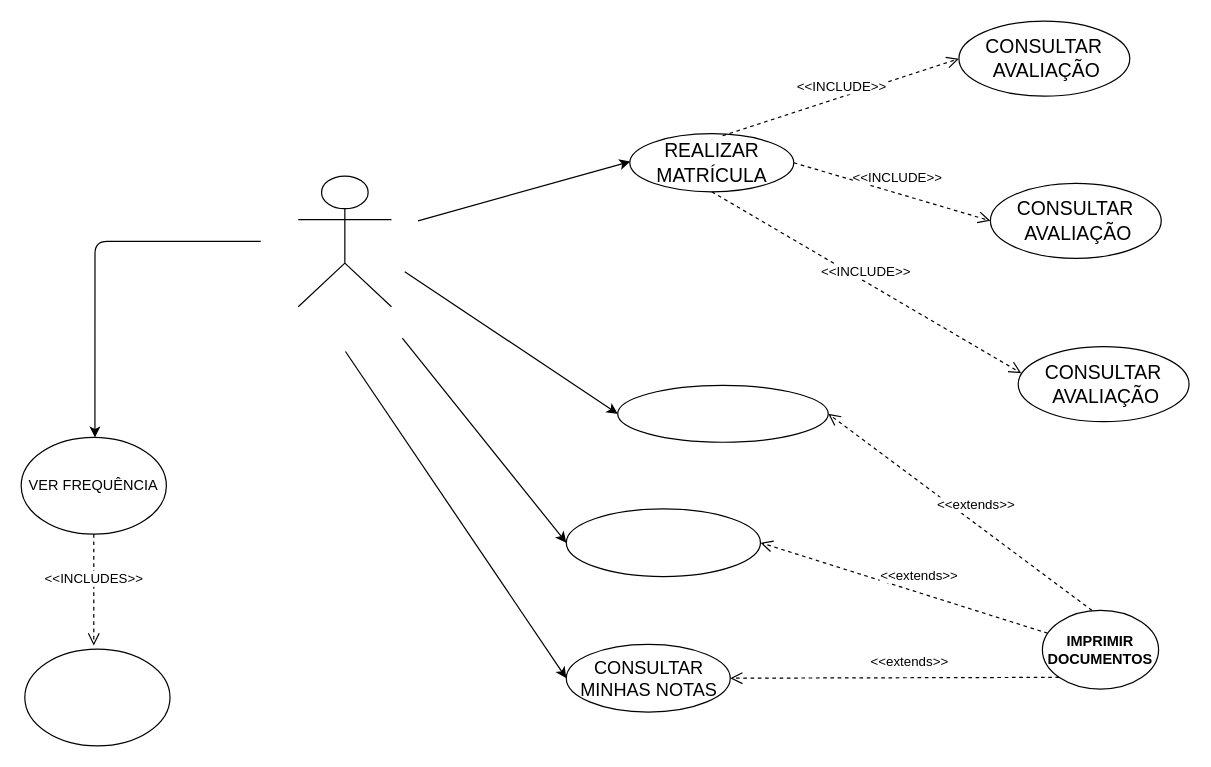
This 1211x767 diagram has some shape labels left out. Each missing label, with the centre of its shape:
Aluno: pixel 344 241
EMITIR ATESTADO DE MATRÍCULA: pixel 662 542
EMITIR HISTÓRICO ESCOLAR: pixel 722 413
SELECIONAR TURMA: pixel 97 697
